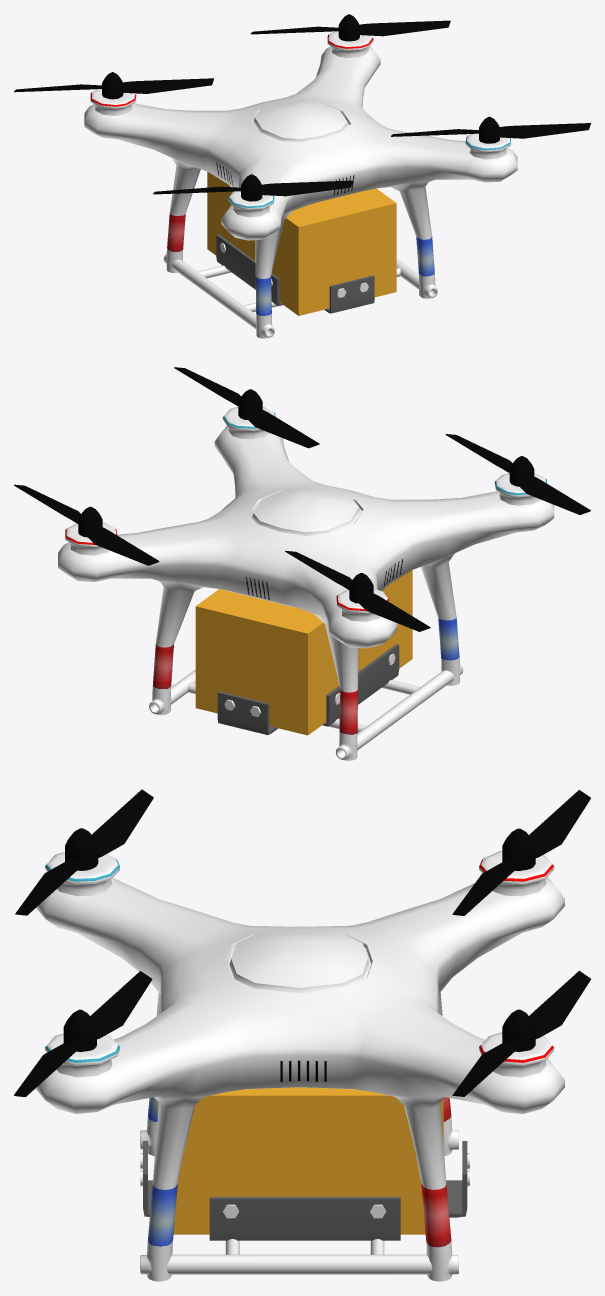
The model's file is drone_nolog.glb.
3 renders of one model, top to bottom at view 1: azimuth 30°, elevation 25°; view 2: azimuth 150°, elevation 25°; view 3: azimuth 270°, elevation 25°, orthographic. The views are drawn at different scales.
Visible parts, largest first — view 1: drone; view 2: drone; view 3: drone.
Part boxes in pixels (bbox=[...]): drone: bbox=[14, 14, 590, 338]; drone: bbox=[14, 367, 590, 760]; drone: bbox=[14, 789, 590, 1281].
Size of the model in its own units: 0.8235 by 0.3681 by 0.655.
1 material, 1 textured.
